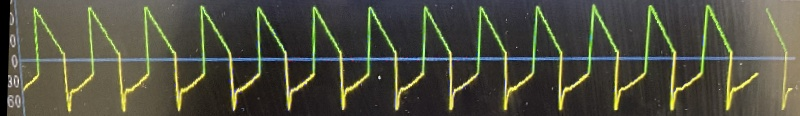peepi: (22, 0, 796, 116)
